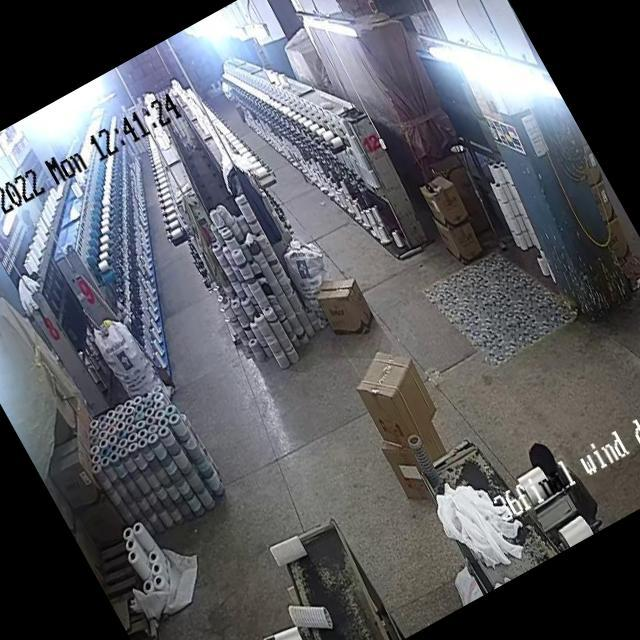person: (530, 438, 604, 536)
